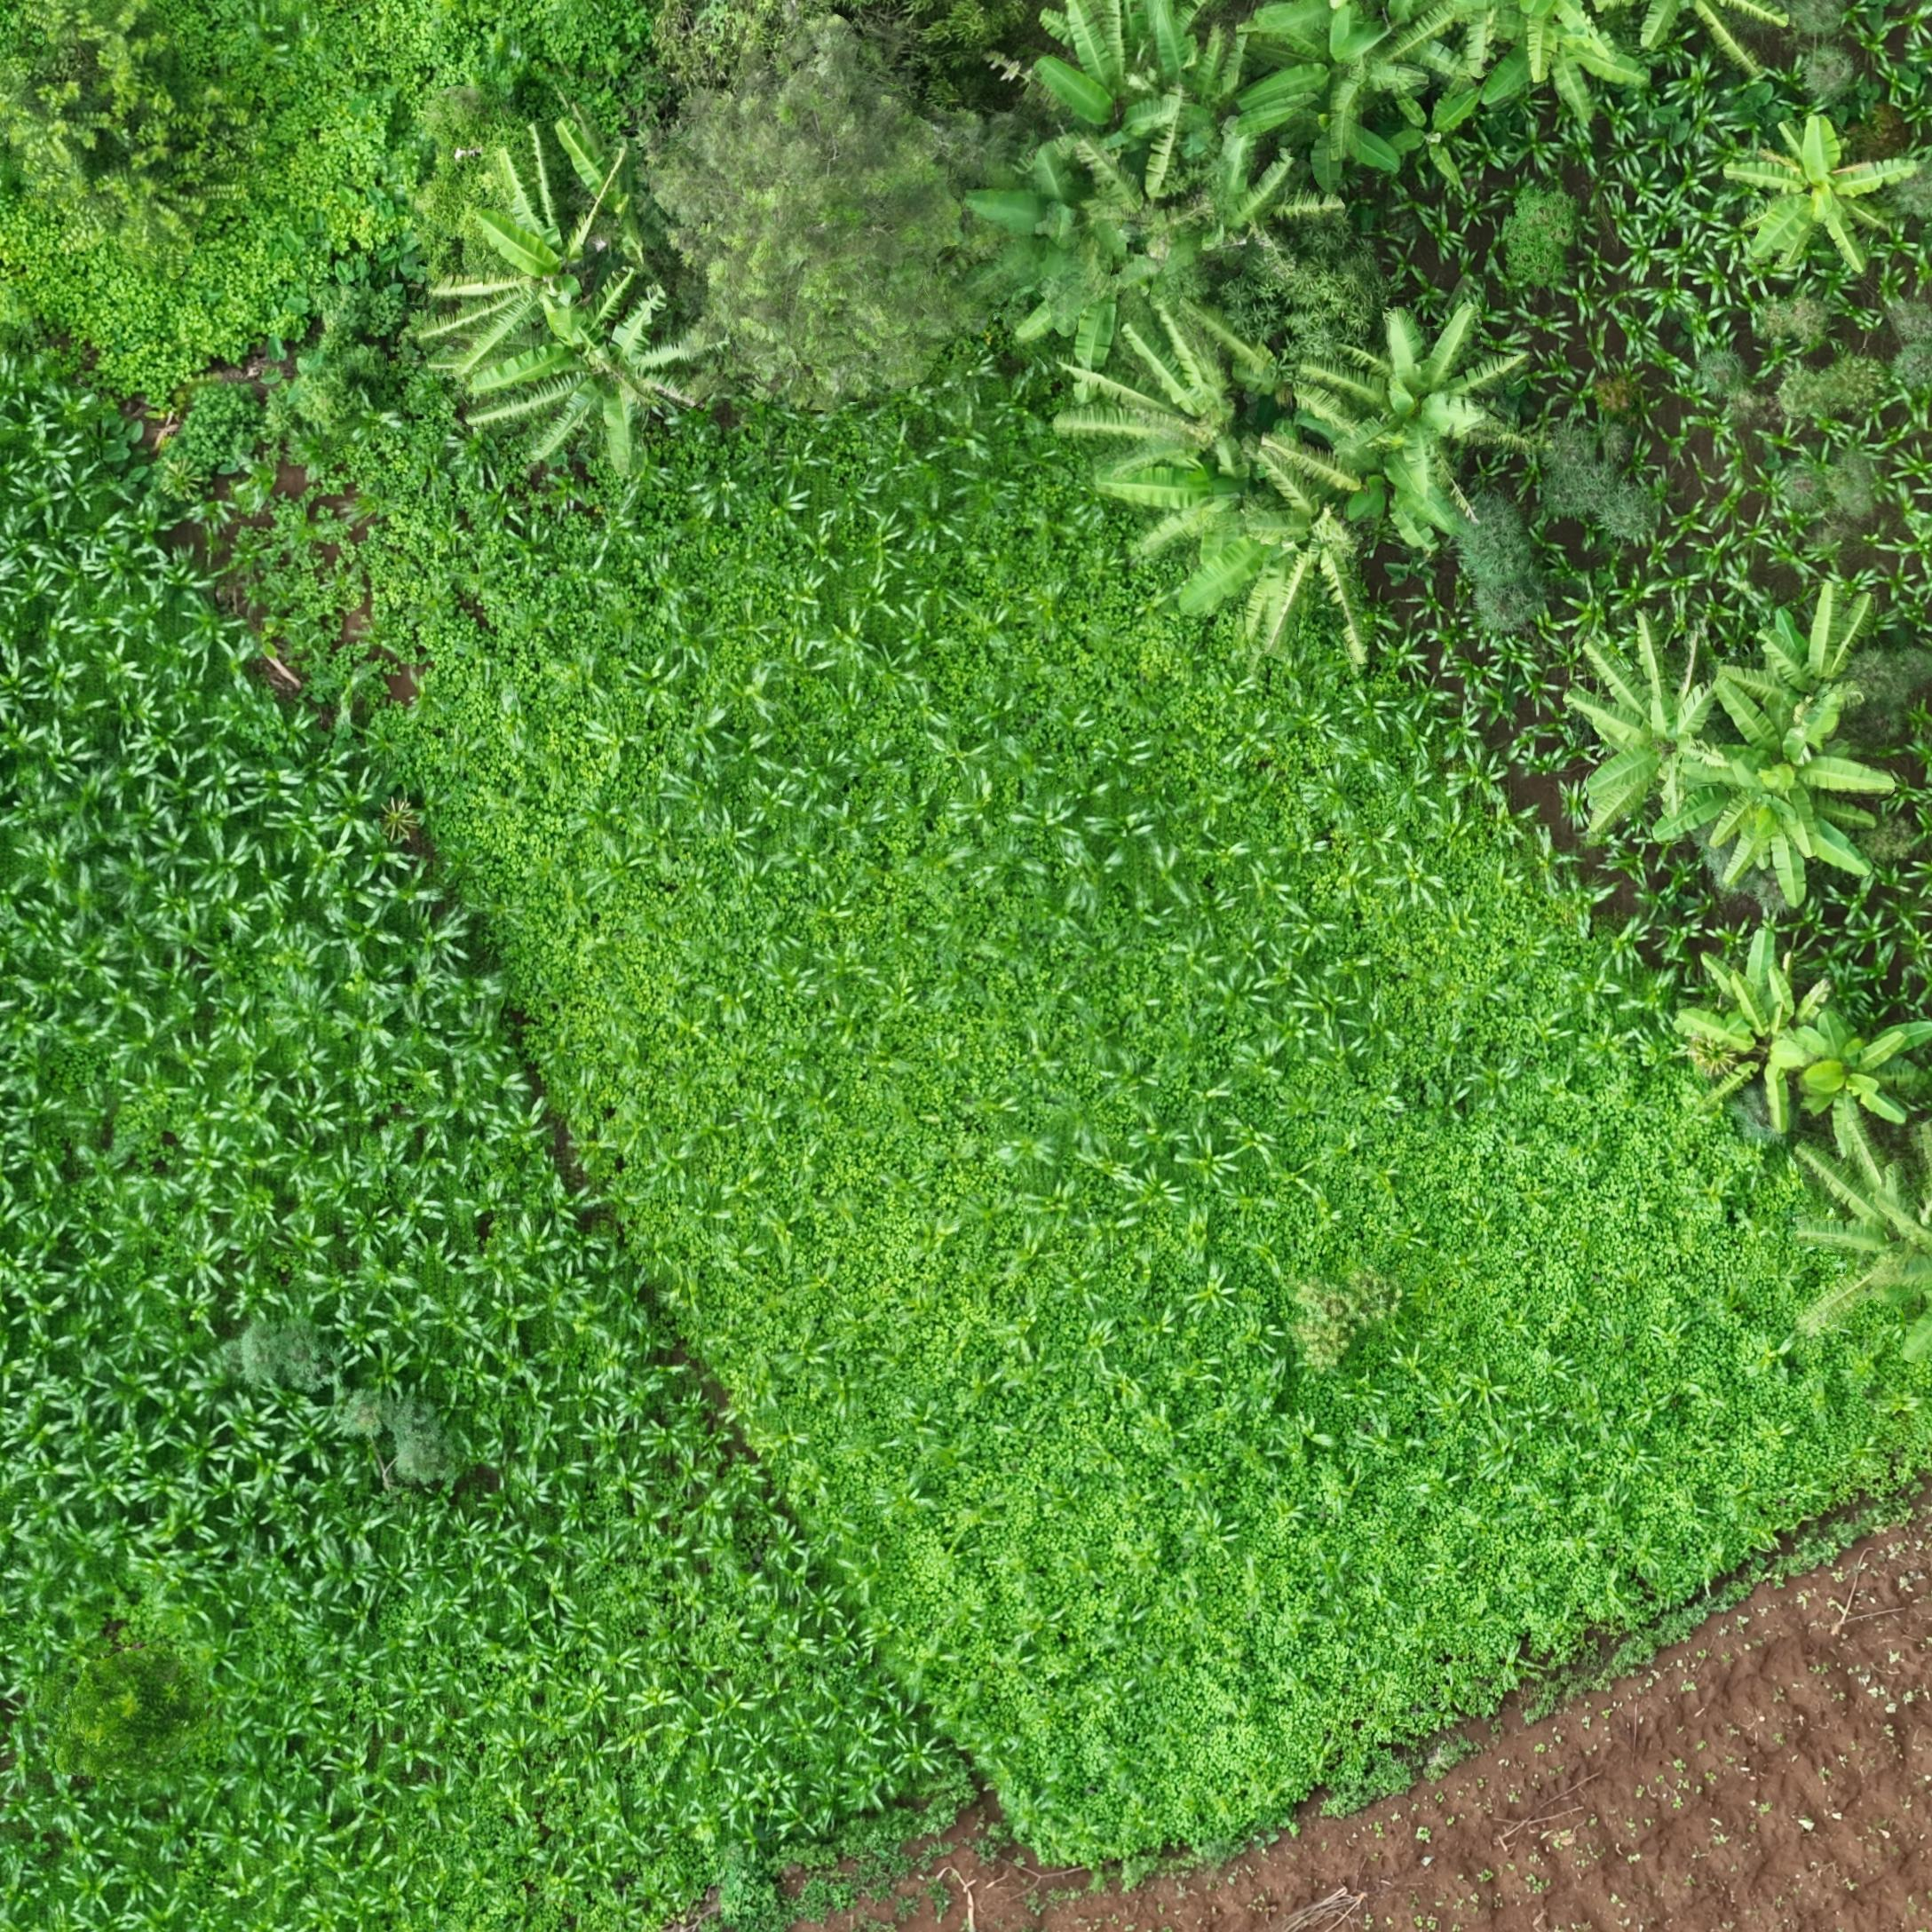Banana: (1090, 347, 1329, 554), (432, 147, 662, 357), (1016, 149, 1258, 345), (1272, 2, 1513, 163), (1759, 104, 1932, 304), (1637, 642, 1782, 856), (1746, 961, 1888, 1178), (550, 103, 717, 278)
